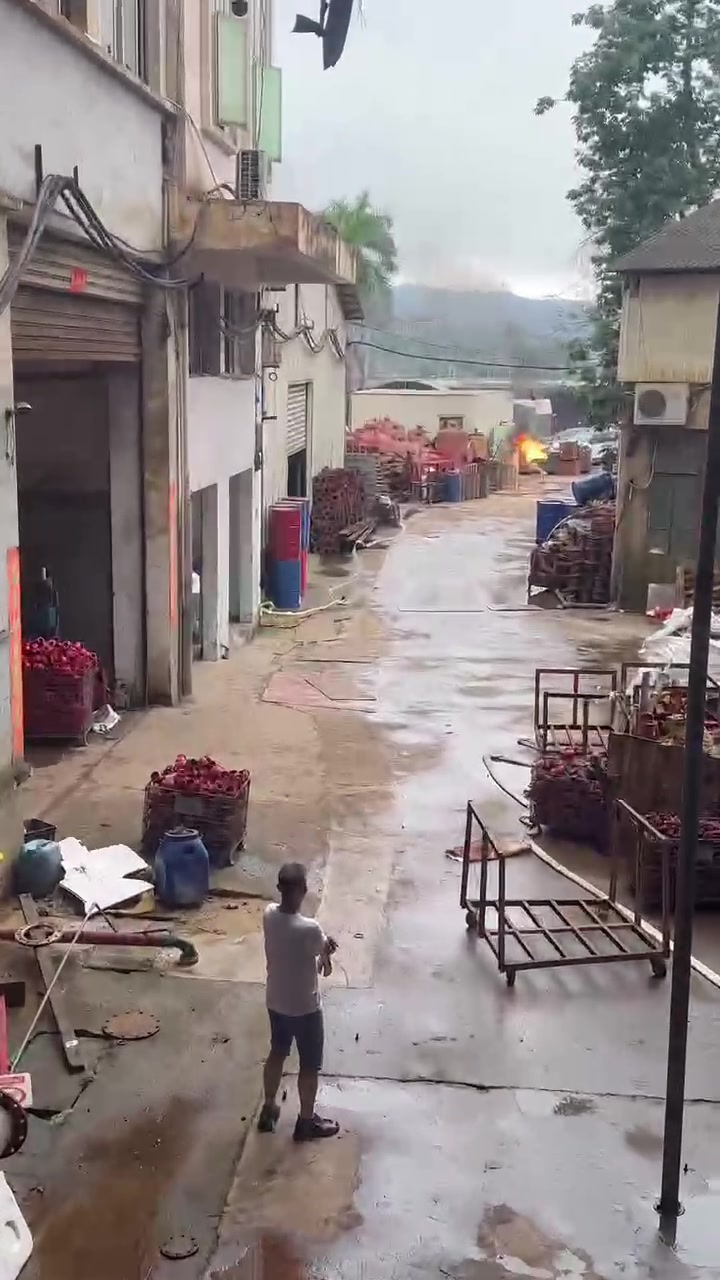fire: (515, 437, 547, 462)
